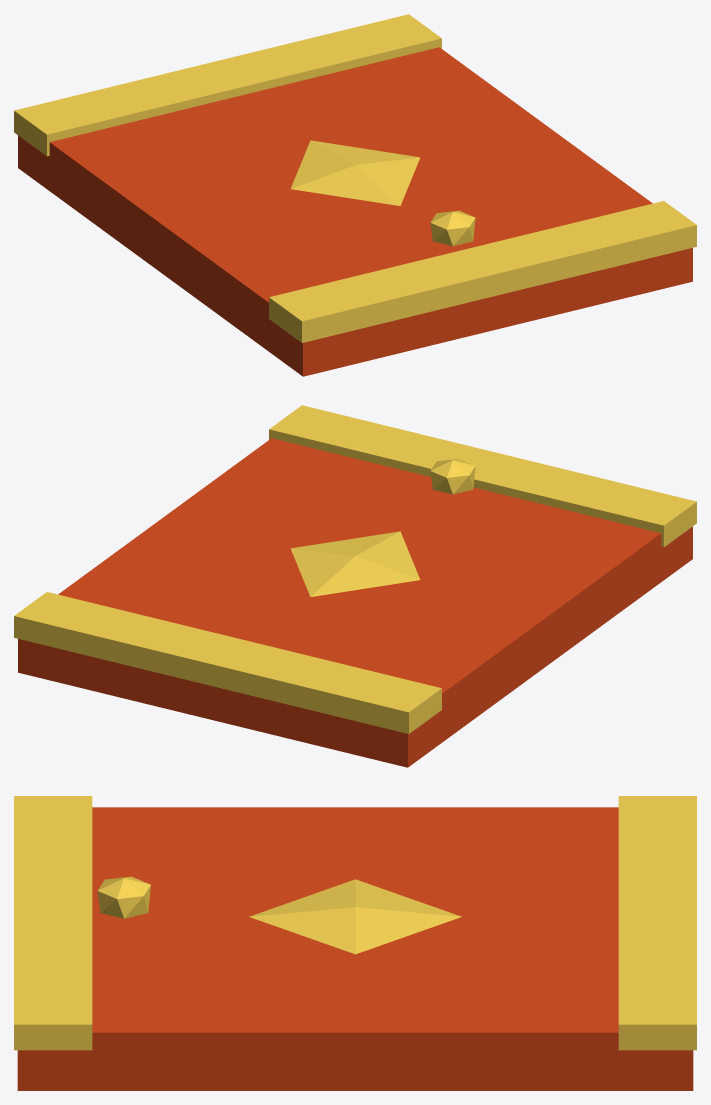
File: drop_cape_firemaking.glb
The picture shows the model from 3 angles, top to bottom: view 1: azimuth 30°, elevation 25°; view 2: azimuth 150°, elevation 25°; view 3: azimuth 270°, elevation 25°; orthographic projection. The views are drawn at different scales.
Parts seen in each view (by area): view 1: drop_cape_firemaking; view 2: drop_cape_firemaking; view 3: drop_cape_firemaking.
Part boxes in pixels (x1,y1,x2,y2): drop_cape_firemaking: [14, 14, 696, 376]; drop_cape_firemaking: [14, 405, 696, 767]; drop_cape_firemaking: [14, 796, 696, 1090].
Size of the model in its own units: 0.304 by 0.062 by 0.384.
